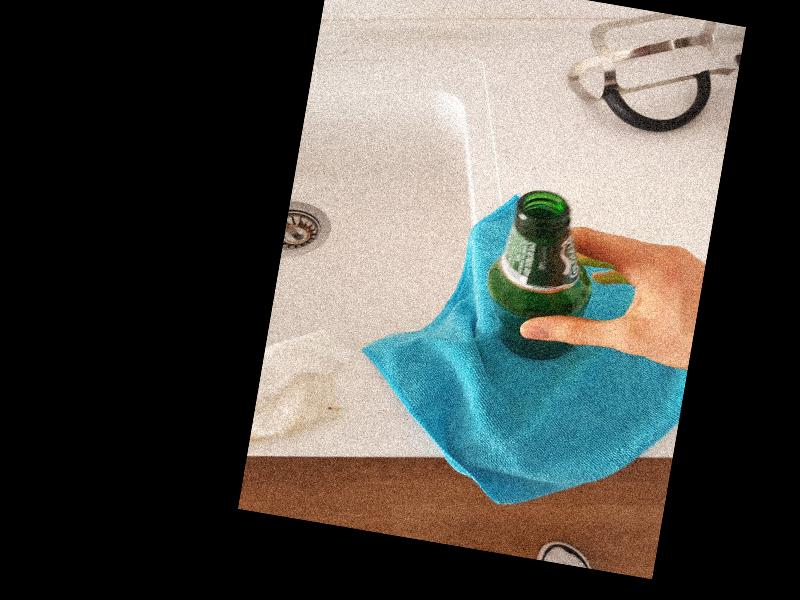Beer: (476, 186, 598, 367)
